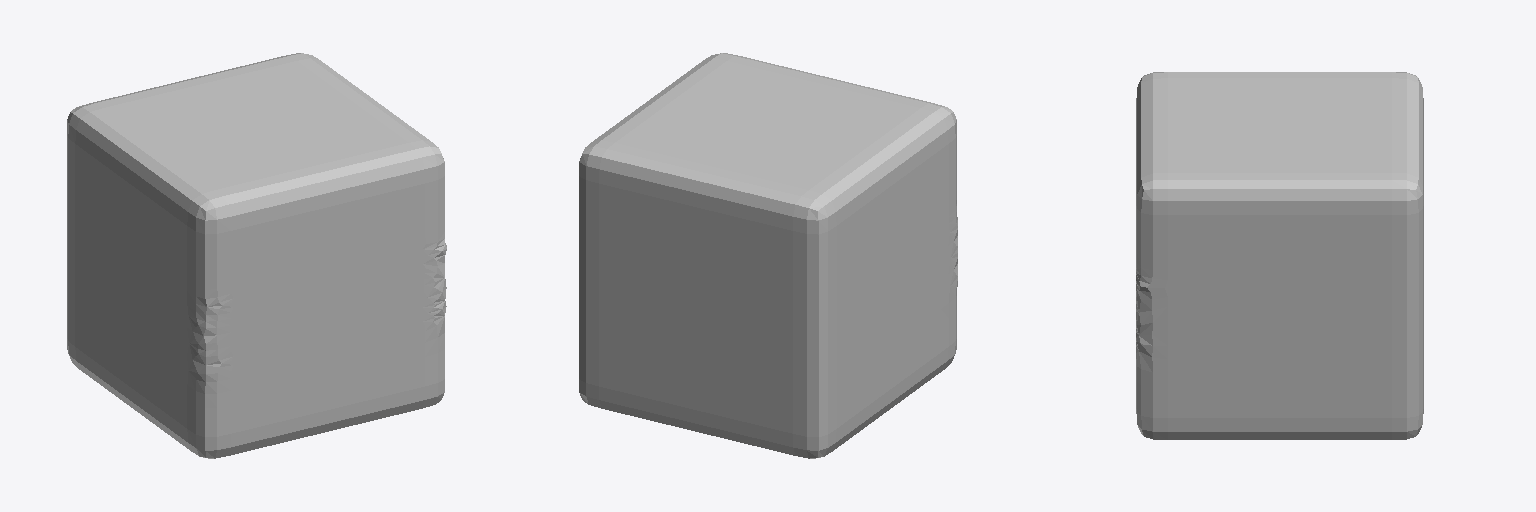
The model's file is Section2_Part1_IsolatedTriangles_ExportTest_SubDQuality1.obj.
The picture shows the model from 3 angles: view 1: azimuth 30°, elevation 25°; view 2: azimuth 150°, elevation 25°; view 3: azimuth 270°, elevation 25°; orthographic projection.
Visible parts, largest first — view 1: Cube_Cube.001; view 2: Cube_Cube.001; view 3: Cube_Cube.001.
Part boxes in pixels (left/top/right/bottom): Cube_Cube.001: left=67, top=53, right=446, bottom=458; Cube_Cube.001: left=579, top=53, right=957, bottom=458; Cube_Cube.001: left=1136, top=72, right=1423, bottom=439.
Bounding box in the file's own units: 2.11 × 2.11 × 2.11.